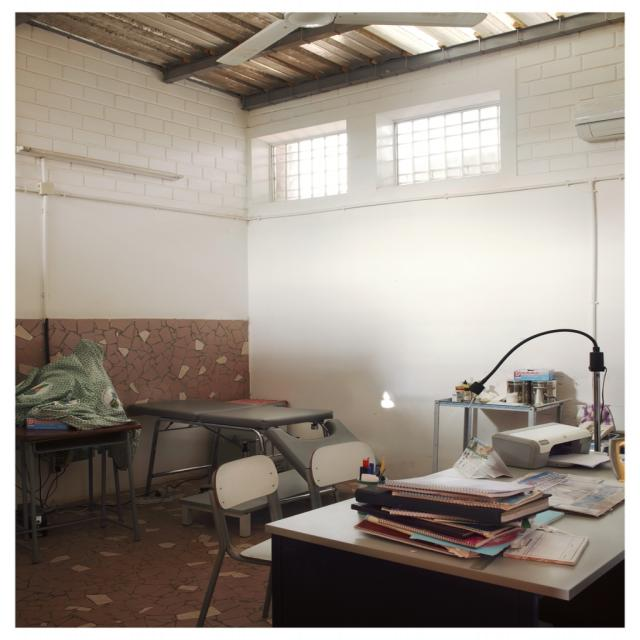chair: (179, 454, 281, 626)
desk: (267, 424, 614, 624)
